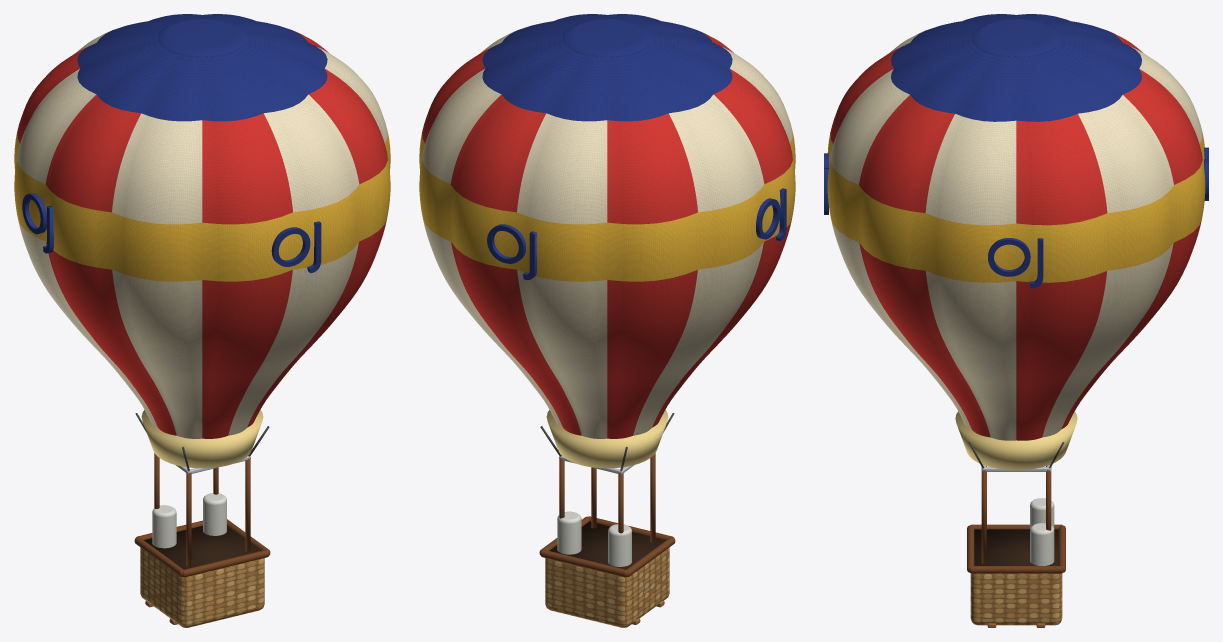
File: balloon.glb
The picture shows the model from 3 angles, left to right: view 1: azimuth 30°, elevation 25°; view 2: azimuth 150°, elevation 25°; view 3: azimuth 270°, elevation 25°; orthographic projection.
Visible parts, largest first — view 1: bl_envelope, bl_basket, bl_skirt, bl_valvelid, bl_floor, Text, bl_tank, Text.002, bl_tank.001, bl_rim, bl_rod, bl_rod.002; view 2: bl_envelope, bl_basket, bl_skirt, bl_valvelid, bl_floor, Text.001, Text.002, bl_tank.001, bl_tank, bl_rim.001, bl_rod; view 3: bl_envelope, bl_basket, bl_skirt, bl_valvelid, bl_floor, Text.003, bl_tank.001, bl_rim.003, bl_rod.002.
Part boxes in pixels (<box>): bl_envelope: <box>14,14,390,438</box>; bl_basket: <box>140,547,264,627</box>; bl_skirt: <box>141,410,263,468</box>; bl_valvelid: <box>157,18,247,56</box>; bl_floor: <box>144,526,260,569</box>; Text: <box>271,221,321,273</box>; bl_tank: <box>152,505,176,548</box>; Text.002: <box>22,193,53,253</box>; bl_tank.001: <box>203,493,226,535</box>; bl_rim: <box>182,550,269,577</box>; bl_rod: <box>186,472,191,566</box>; bl_rod.002: <box>245,458,250,551</box>; bl_envelope: <box>419,14,795,438</box>; bl_basket: <box>545,547,669,627</box>; bl_skirt: <box>546,410,668,468</box>; bl_valvelid: <box>562,18,652,56</box>; bl_floor: <box>549,521,665,569</box>; Text.001: <box>487,224,536,279</box>; Text.002: <box>756,188,786,241</box>; bl_tank.001: <box>557,511,581,554</box>; bl_tank: <box>608,524,631,566</box>; bl_rim.001: <box>540,550,627,577</box>; bl_rod: <box>650,453,655,542</box>; bl_envelope: <box>827,14,1205,440</box>; bl_basket: <box>970,573,1062,625</box>; bl_skirt: <box>955,411,1077,470</box>; bl_valvelid: <box>971,18,1061,56</box>; bl_floor: <box>974,529,1058,565</box>; Text.003: <box>988,238,1043,288</box>; bl_tank.001: <box>1030,523,1054,565</box>; bl_rim.003: <box>969,566,1063,573</box>; bl_rod.002: <box>981,469,986,563</box>.
Bounding box in the file's own units: 6.3 × 10.36 × 6.3.
Materials: 16 (6 with a texture image).
